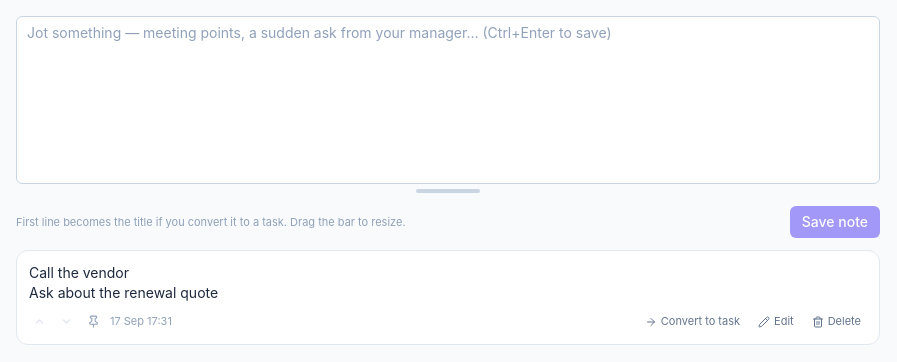
it: NoteCard convert-to-task › creates a linked task, opens its editor, and flips the card
Click the button "Convert to task": (692, 322) [639, 311, 746, 332]
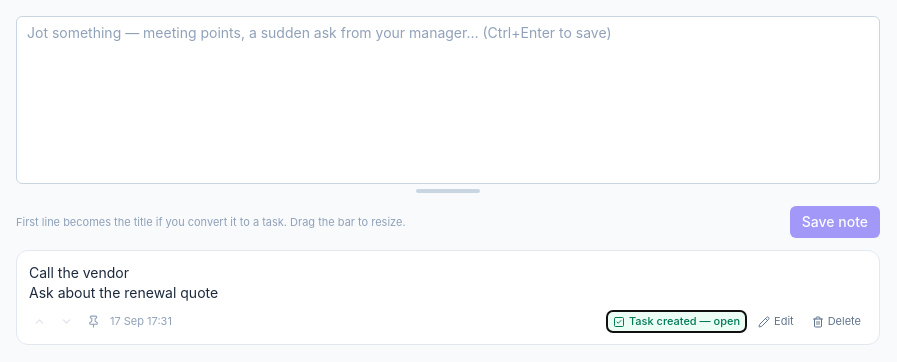
expect the button "Task created — open" is shown: met, box [607, 311, 746, 332]
expect the button "Convert to task" is gone: met
